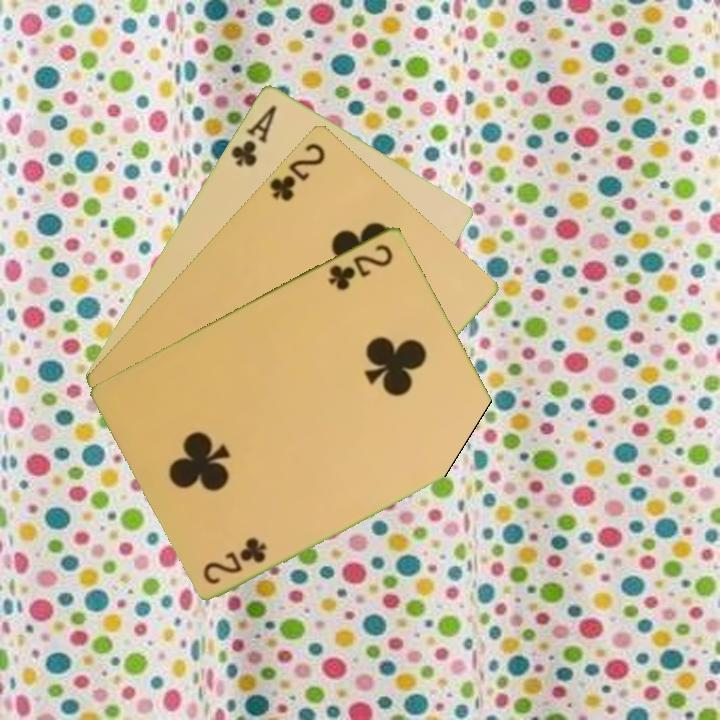2c: (266, 138, 328, 204), (325, 239, 396, 293), (199, 534, 270, 587)
Ac: (227, 100, 280, 169)
